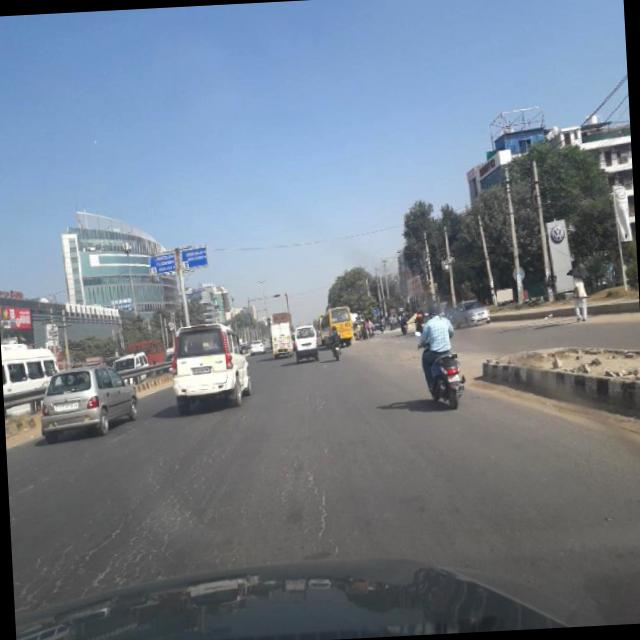crack: (15, 408, 266, 592), (266, 376, 346, 546)
